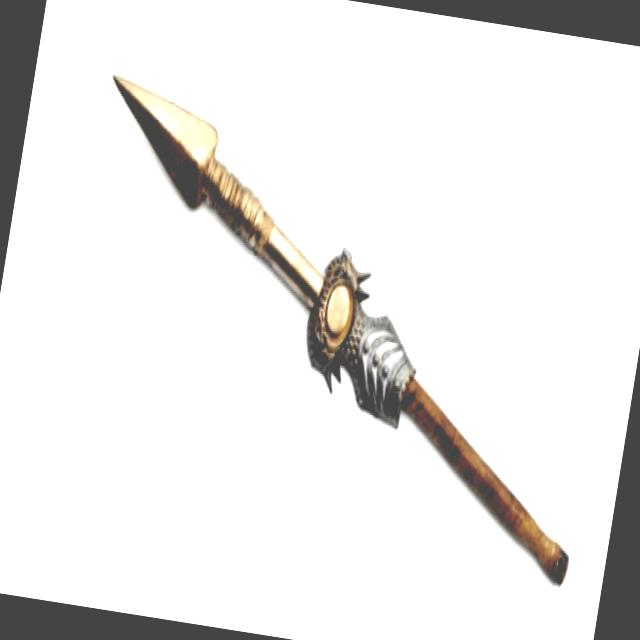spear: (20, 28, 639, 625)
